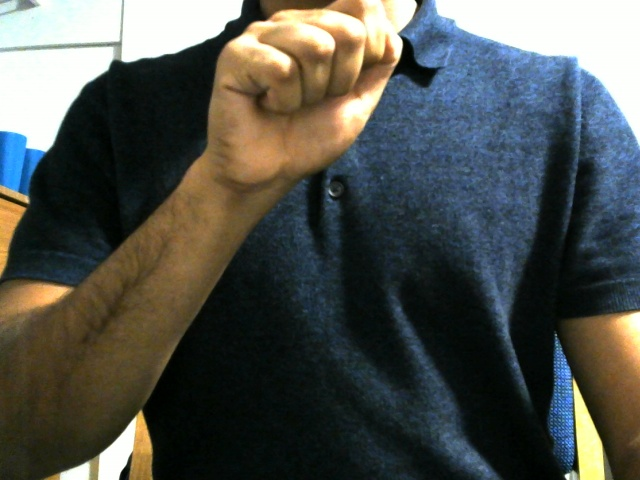A: (194, 1, 404, 194)
